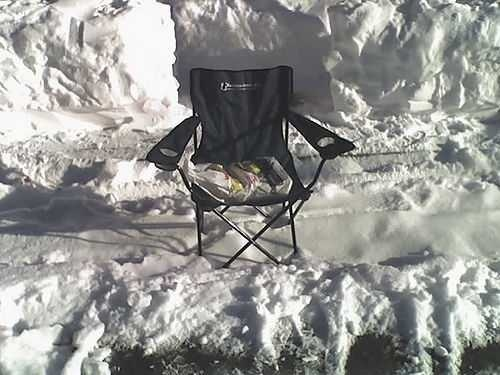obstacle: (146, 66, 353, 266)
